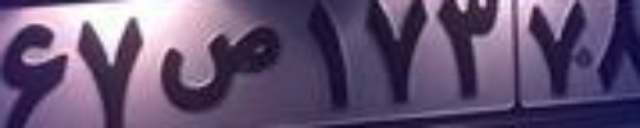1: (302, 3, 348, 108)
3: (434, 0, 501, 100)
6: (1, 19, 70, 127)
7: (74, 14, 149, 127), (361, 1, 428, 104), (528, 2, 584, 94)
8: (592, 0, 639, 96)
saat: (158, 24, 282, 114)
